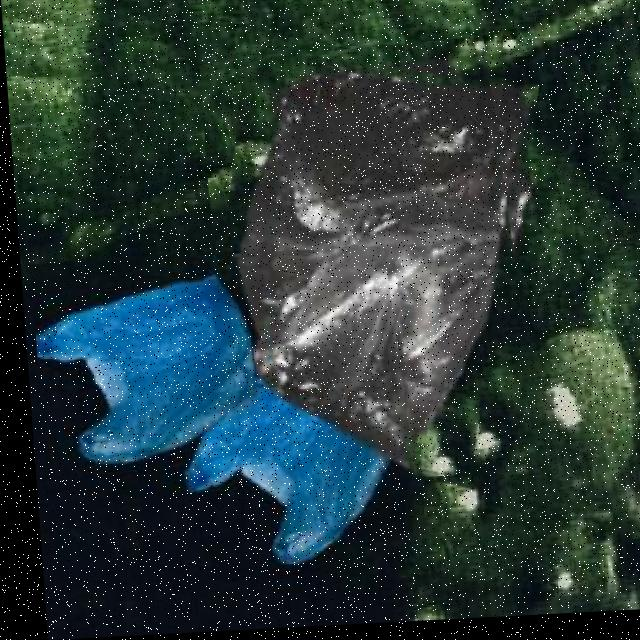litter: (197, 40, 536, 489), (25, 249, 420, 593)
